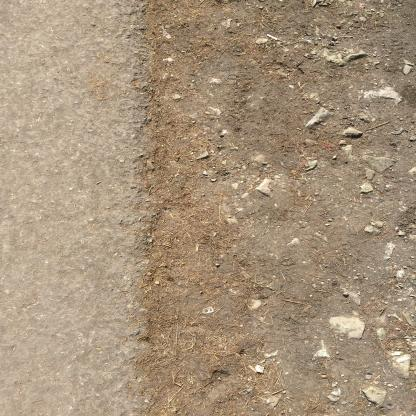trash: (200, 305, 216, 315)
